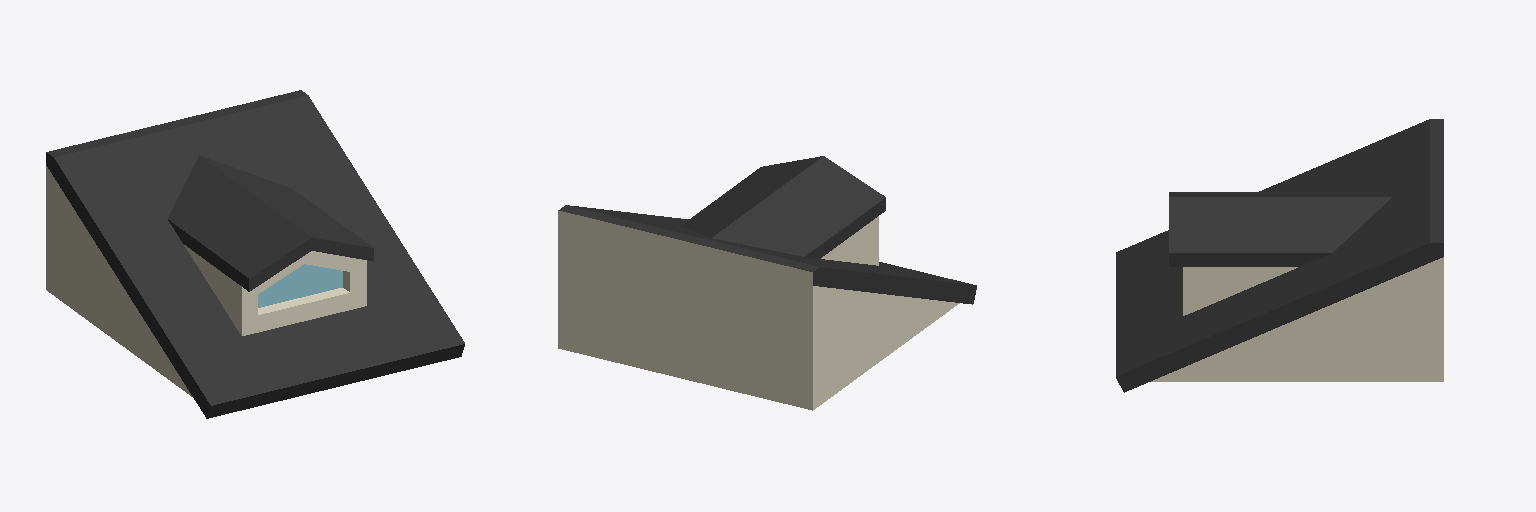
Rendered from houseRoof2.obj.
3 views of the same model, side by side, from view 1: azimuth 30°, elevation 25°; view 2: azimuth 150°, elevation 25°; view 3: azimuth 270°, elevation 25° (orthographic).
Parts seen in each view (by area): view 1: Mesh1_Group1_Model.008; view 2: Mesh1_Group1_Model.008; view 3: Mesh1_Group1_Model.008.
Boxes of the visible parts, <box> form: Mesh1_Group1_Model.008: <box>46,90,464,418</box>; Mesh1_Group1_Model.008: <box>558,156,976,410</box>; Mesh1_Group1_Model.008: <box>1116,119,1443,392</box>.
Bounding box in the file's own units: 1 × 0.5612 × 1.12.